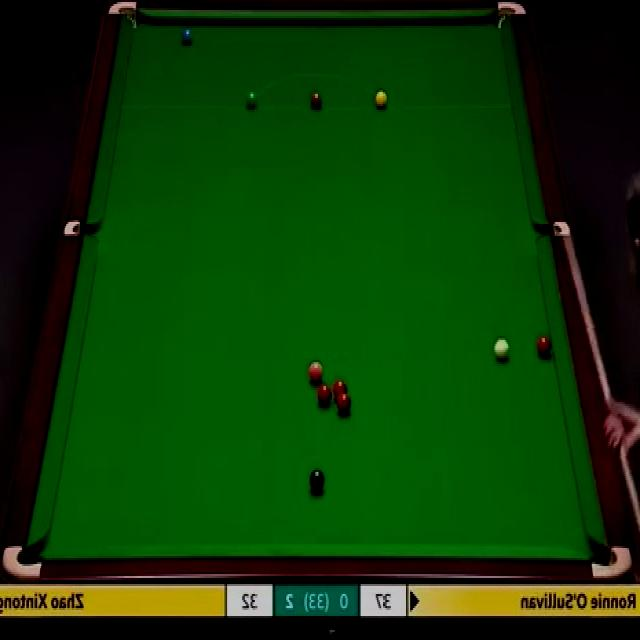black-ball: (309, 469, 326, 494)
blue-ball: (179, 22, 195, 47)
brown-ball: (309, 91, 323, 111)
green-ball: (244, 90, 258, 112)
pink-ball: (308, 361, 326, 385)
red-ball: (316, 383, 333, 405), (336, 393, 352, 416), (536, 331, 551, 355), (332, 379, 349, 400)
white-ball: (494, 337, 512, 365)
yellow-ball: (374, 90, 388, 110)
